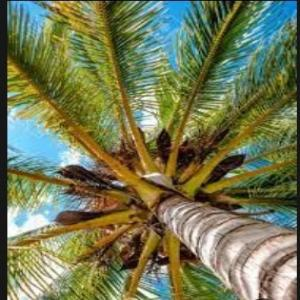palm tree: (6, 0, 297, 299)
